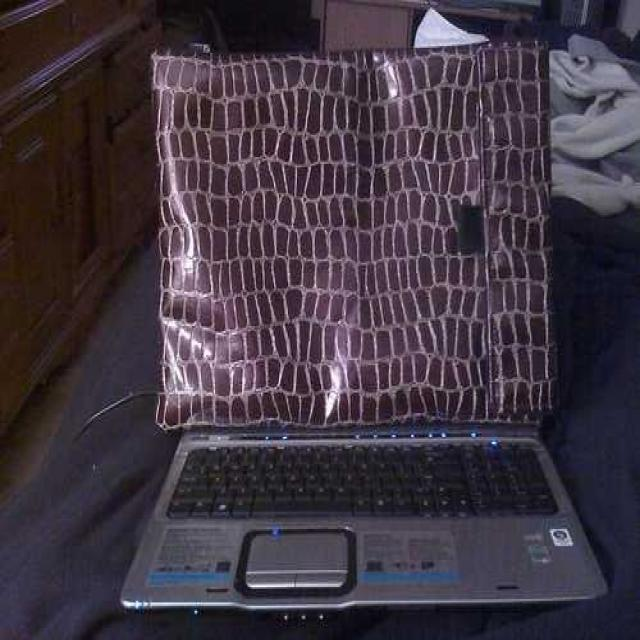laptop: (165, 440, 616, 607)
